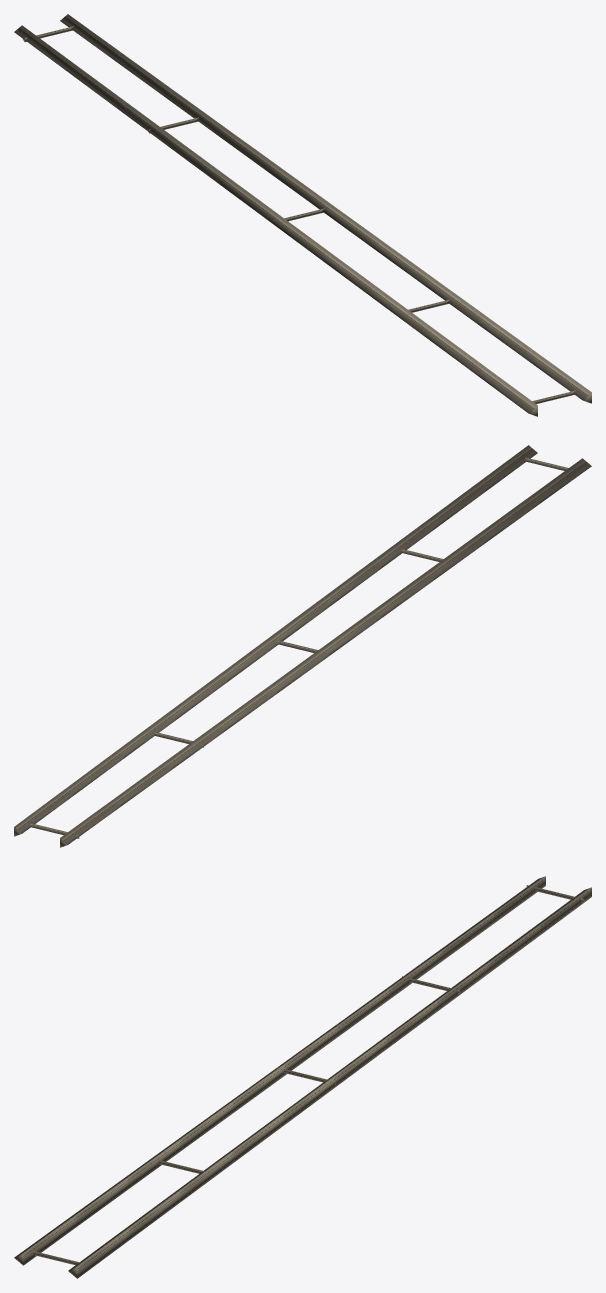
The model's file is SiegeLadder_1_LOD2.gltf.
The picture shows the model from 3 angles, top to bottom: view 1: azimuth 30°, elevation 25°; view 2: azimuth 150°, elevation 25°; view 3: azimuth 330°, elevation 25°; orthographic projection.
Visible parts, largest first — view 1: SiegeLadder_1_LOD2; view 2: SiegeLadder_1_LOD2; view 3: SiegeLadder_1_LOD2.
Part boxes in pixels (<box>): SiegeLadder_1_LOD2: <box>14,14,591,416</box>; SiegeLadder_1_LOD2: <box>14,445,591,847</box>; SiegeLadder_1_LOD2: <box>14,876,591,1278</box>.
Bounding box in the file's own units: 0.705 × 0.1212 × 10.
1 material, 1 textured.
